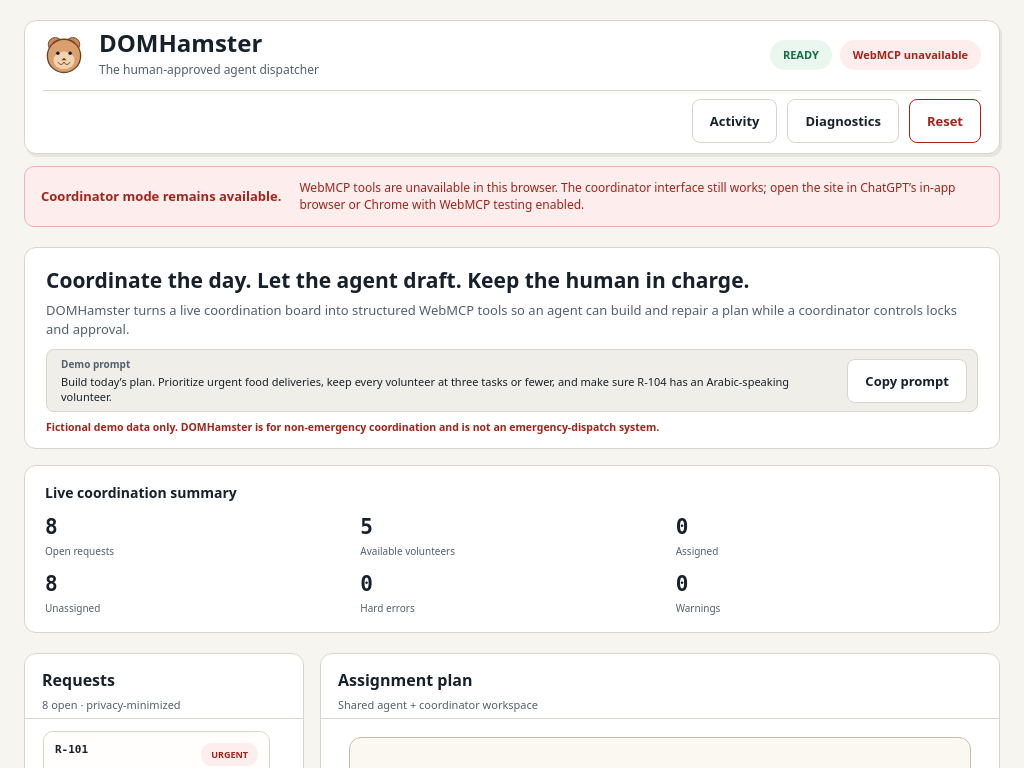
Test case: store-connected approval and recovery workflow › suppresses stale registered tools when WebMCP is unavailable
Step 1. Click the button "Diagnostics" → click(843, 121), box [788, 99, 899, 143]
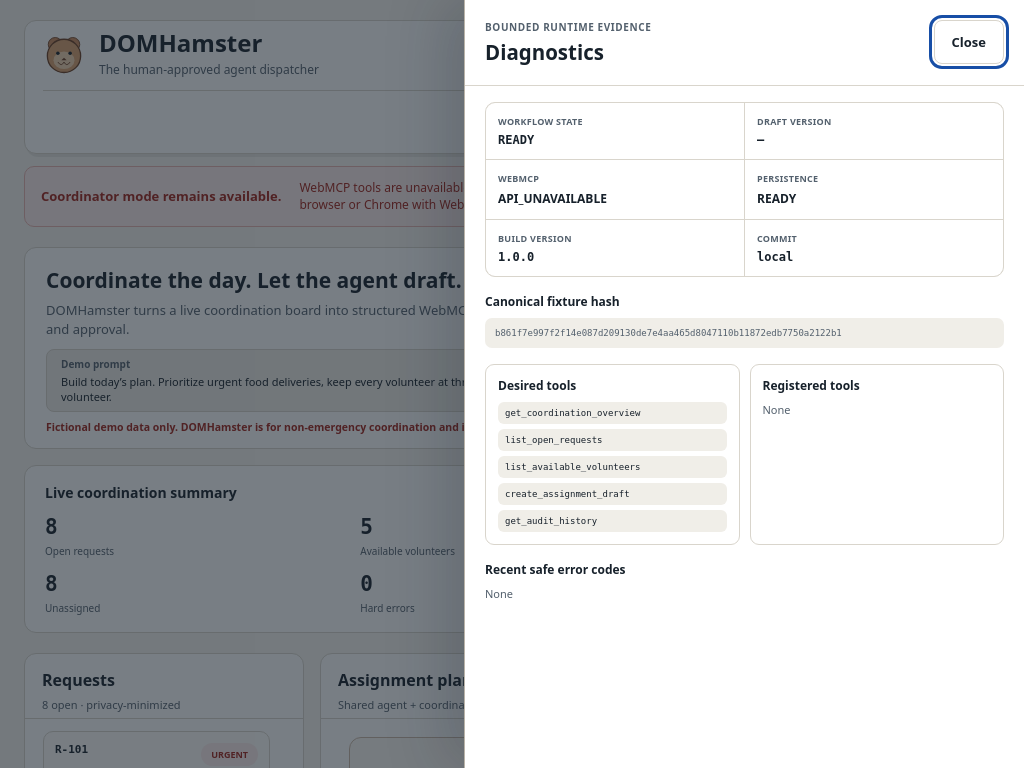
Expected: the text "None" below "Registered tools" is shown, [762, 402, 790, 417]
